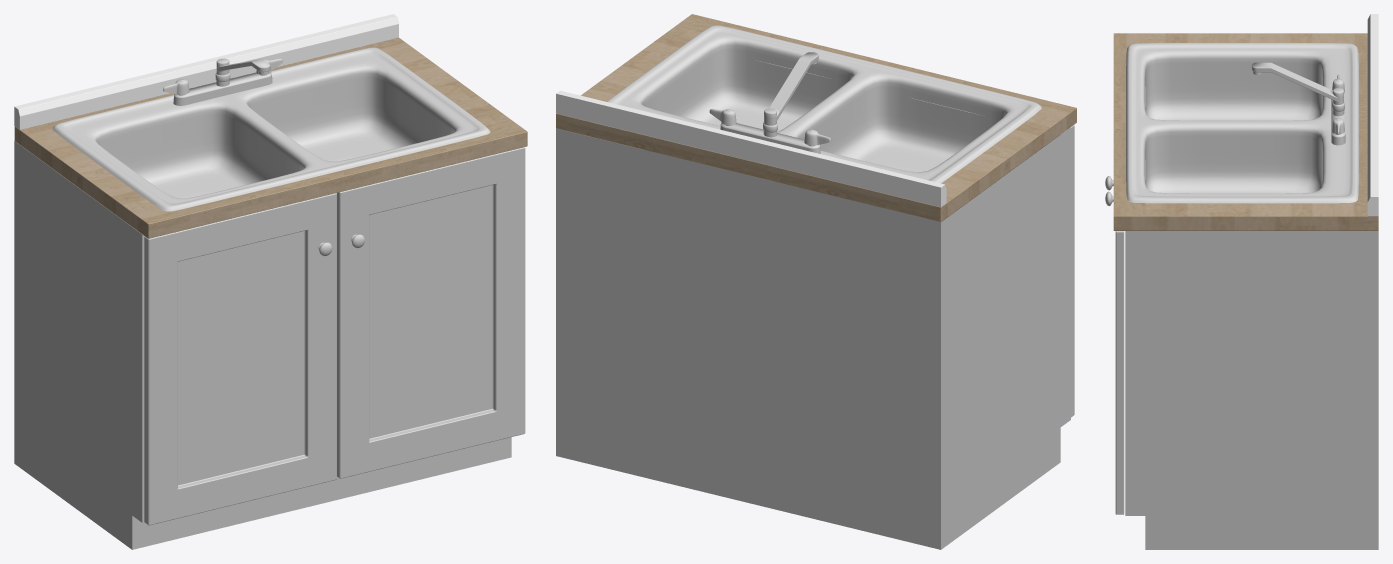
Rendered from kitchen_sink.glb.
3 views of the same model, side by side, from view 1: azimuth 30°, elevation 25°; view 2: azimuth 150°, elevation 25°; view 3: azimuth 270°, elevation 25° (orthographic). The views are drawn at different scales.
Parts seen in each view (by area): view 1: Door-and-Drawers-Right.002_Cube.038, Base-unit-Box-Right.002_Cube.036, Double_sink, Worktop-Right.002_Cube.037, Plane.001_Plane.017, Kitchen_faucet, Kitchen_spigot; view 2: Base-unit-Box-Right.002_Cube.036, Double_sink, Worktop-Right.002_Cube.037, Plane.001_Plane.017, Kitchen_spigot, Door-and-Drawers-Right.002_Cube.038, Kitchen_faucet; view 3: Base-unit-Box-Right.002_Cube.036, Double_sink, Worktop-Right.002_Cube.037, Door-and-Drawers-Right.002_Cube.038, Plane.001_Plane.017, Kitchen_spigot, Kitchen_faucet.
Boxes of the visible parts, box(x1,y1,x2,y2) form: Door-and-Drawers-Right.002_Cube.038: box(144, 147, 525, 525); Base-unit-Box-Right.002_Cube.036: box(14, 141, 511, 549); Double_sink: box(52, 47, 490, 211); Worktop-Right.002_Cube.037: box(14, 37, 527, 238); Plane.001_Plane.017: box(14, 14, 398, 129); Kitchen_faucet: box(173, 72, 272, 105); Kitchen_spigot: box(215, 58, 270, 86); Base-unit-Box-Right.002_Cube.036: box(556, 61, 1070, 549); Double_sink: box(607, 25, 1041, 219); Worktop-Right.002_Cube.037: box(556, 14, 1076, 221); Plane.001_Plane.017: box(556, 90, 946, 207); Kitchen_spigot: box(763, 52, 818, 137); Door-and-Drawers-Right.002_Cube.038: box(1071, 125, 1074, 417); Kitchen_faucet: box(720, 123, 820, 153); Base-unit-Box-Right.002_Cube.036: box(1125, 87, 1378, 549); Double_sink: box(1126, 43, 1358, 203); Worktop-Right.002_Cube.037: box(1113, 33, 1378, 230); Door-and-Drawers-Right.002_Cube.038: box(1115, 231, 1124, 514); Plane.001_Plane.017: box(1367, 14, 1378, 216); Kitchen_spigot: box(1251, 62, 1344, 116); Kitchen_faucet: box(1331, 93, 1345, 145).
Size of the model in its own units: 0.976 by 0.976 by 0.616.
7 materials, 1 textured.
